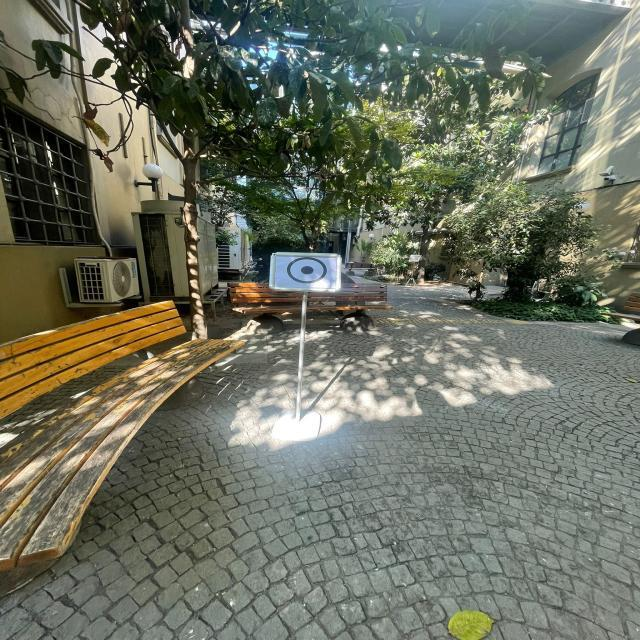Target: (264, 241, 349, 300)
inner: (299, 261, 317, 279)
